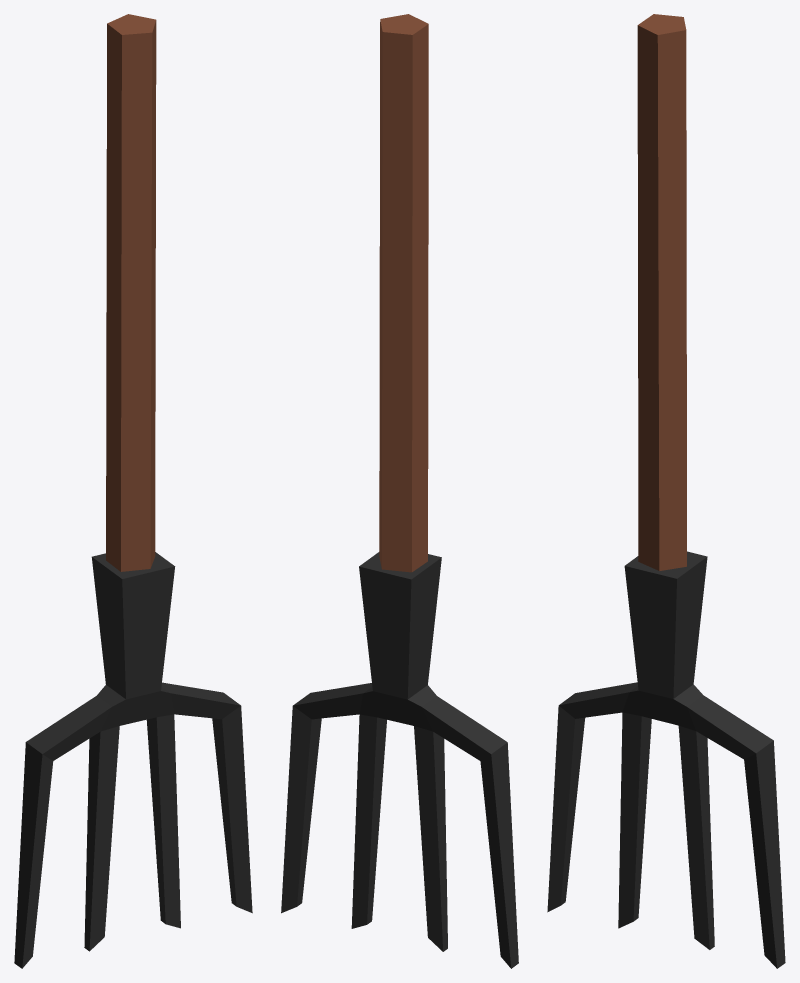
The model's file is pitchforks.fbx.
3 renders of one model, left to right at view 1: azimuth 30°, elevation 25°; view 2: azimuth 150°, elevation 25°; view 3: azimuth 330°, elevation 25°, orthographic.
Visible parts, largest first — view 1: pitchforks; view 2: pitchforks; view 3: pitchforks.
Boxes of the visible parts, x1=… form: pitchforks: x1=14, y1=14, x2=252, y2=968; pitchforks: x1=281, y1=14, x2=518, y2=968; pitchforks: x1=547, y1=14, x2=785, y2=968.
Bounding box in the file's own units: 20.96 × 79.56 × 4.84.
